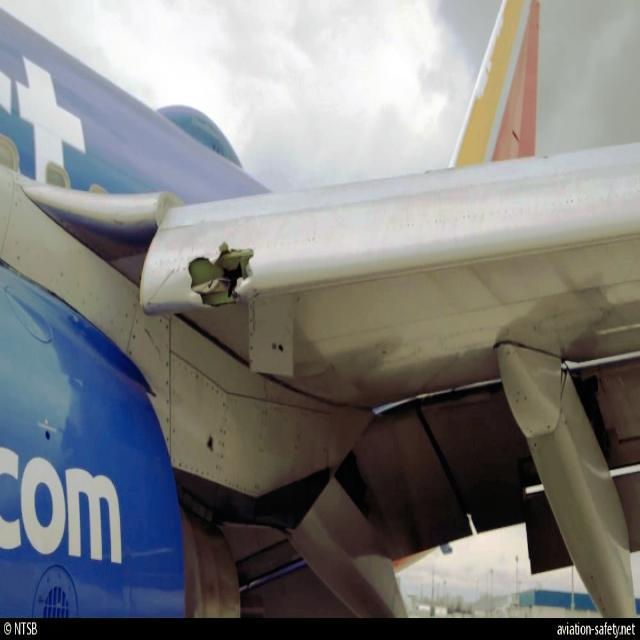crack: (189, 240, 257, 314)
